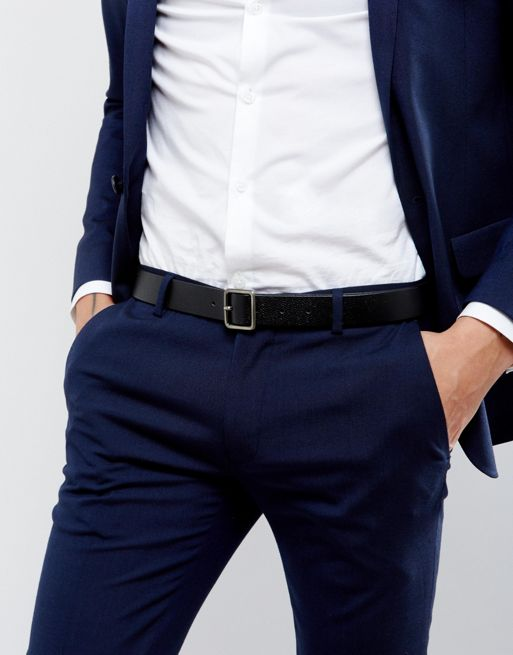F_M_suit jacket: (51, 1, 513, 336)
F_belt: (118, 254, 429, 337)
F_dress pants: (22, 329, 452, 642)
